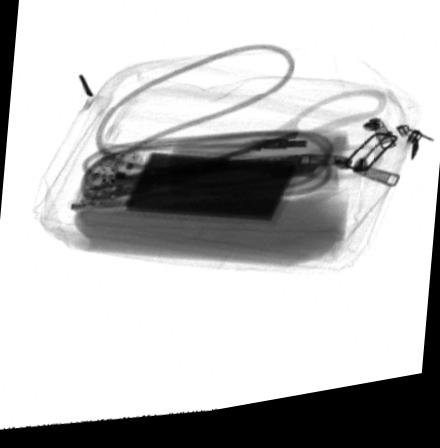Powerbank: (68, 146, 315, 237)
Scissors: (83, 102, 390, 207)
